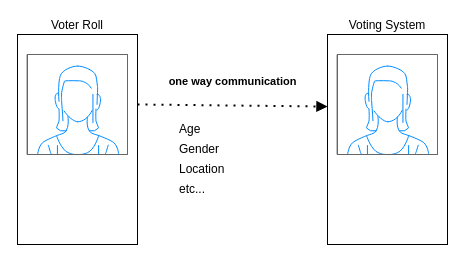
This 465x262 diagram has some shape labels left out. Here are the shapes that lost their labels. From the top down, the centre of each, then its label:
point (77, 104): You
point (387, 104): Anonymous Proxy of you
